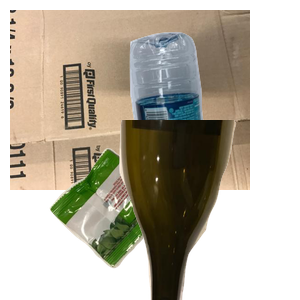cardboard: (10, 10, 250, 190)
glass: (117, 120, 300, 300)
plastic: (127, 29, 300, 209)
trash: (47, 146, 220, 300)
